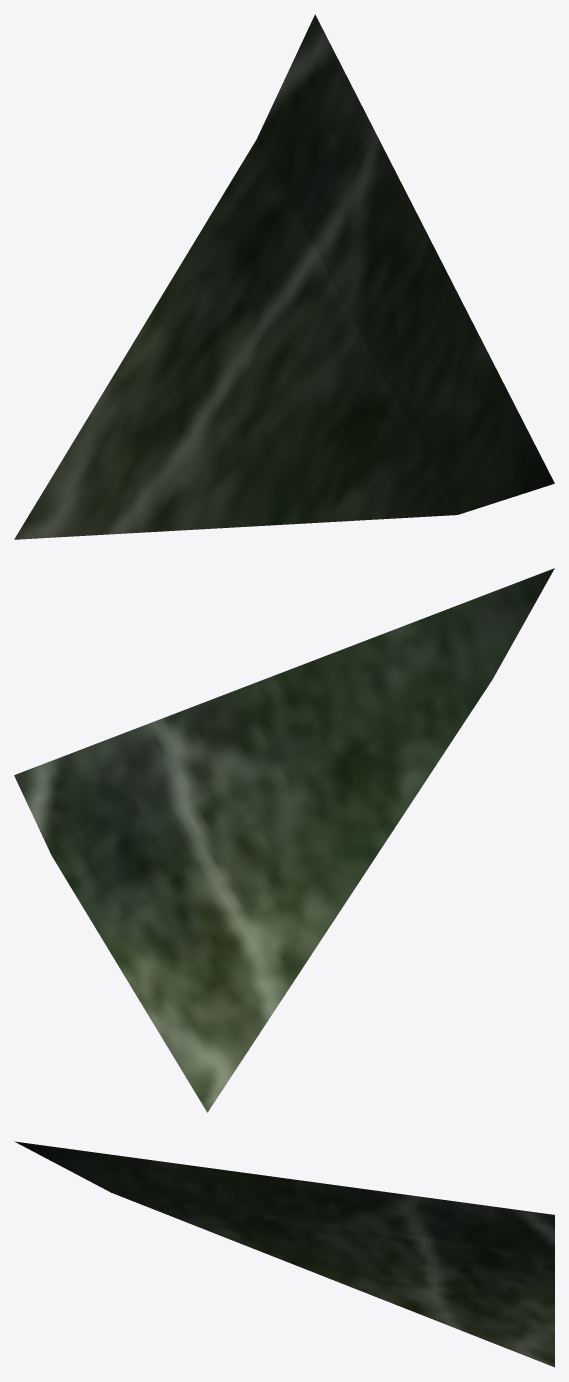
The picture shows the model from 3 angles, top to bottom: view 1: azimuth 30°, elevation 25°; view 2: azimuth 150°, elevation 25°; view 3: azimuth 270°, elevation 25°; orthographic projection. The views are drawn at different scales.
Size of the model in its own units: 0.6535 by 0.9375 by 2.03.
Materials: 1 (1 with a texture image).
